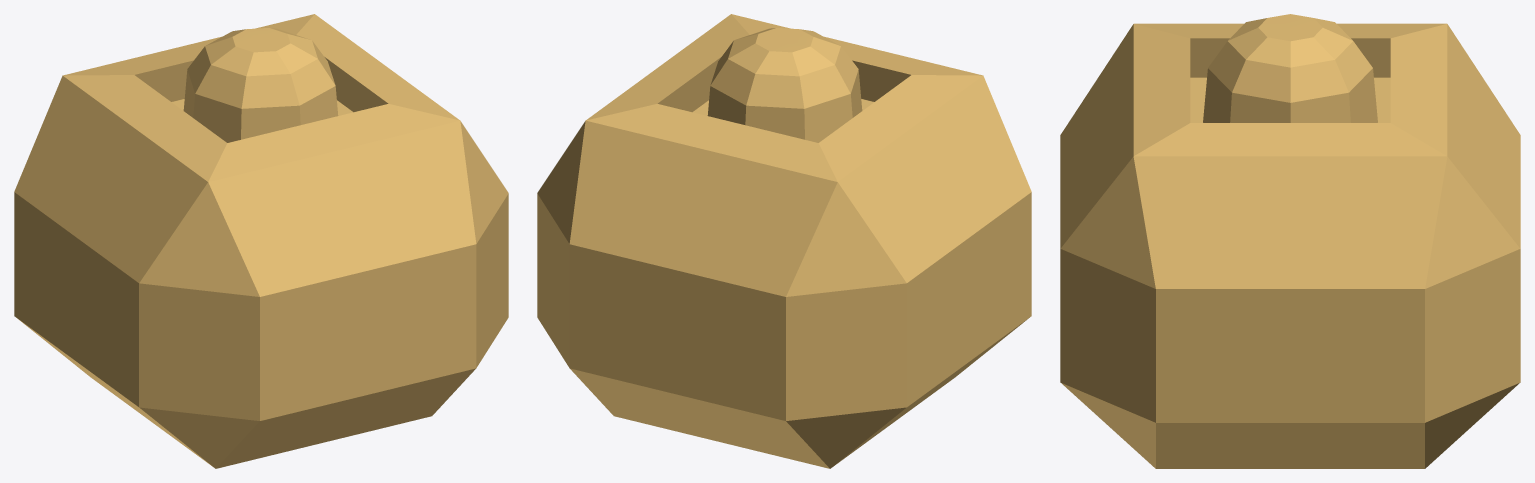
The model's file is 01_turretbase_pulseHowitser_aegis.glb.
3 renders of one model, left to right at view 1: azimuth 30°, elevation 25°; view 2: azimuth 150°, elevation 25°; view 3: azimuth 270°, elevation 25°, orthographic. The views are drawn at different scales.
Parts seen in each view (by area): view 1: 01_turretbase_pulseHowitser_aegis; view 2: 01_turretbase_pulseHowitser_aegis; view 3: 01_turretbase_pulseHowitser_aegis.
Part boxes in pixels (bbox=[...]): 01_turretbase_pulseHowitser_aegis: bbox=[14, 14, 508, 468]; 01_turretbase_pulseHowitser_aegis: bbox=[537, 14, 1031, 468]; 01_turretbase_pulseHowitser_aegis: bbox=[1060, 14, 1520, 468].
Bounding box in the file's own units: 1.1 × 1.02 × 1.1.
